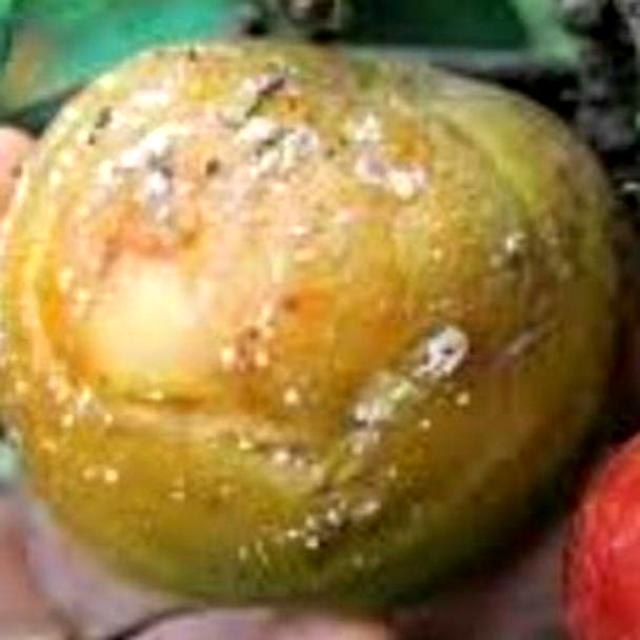ROT: (6, 19, 608, 628)
